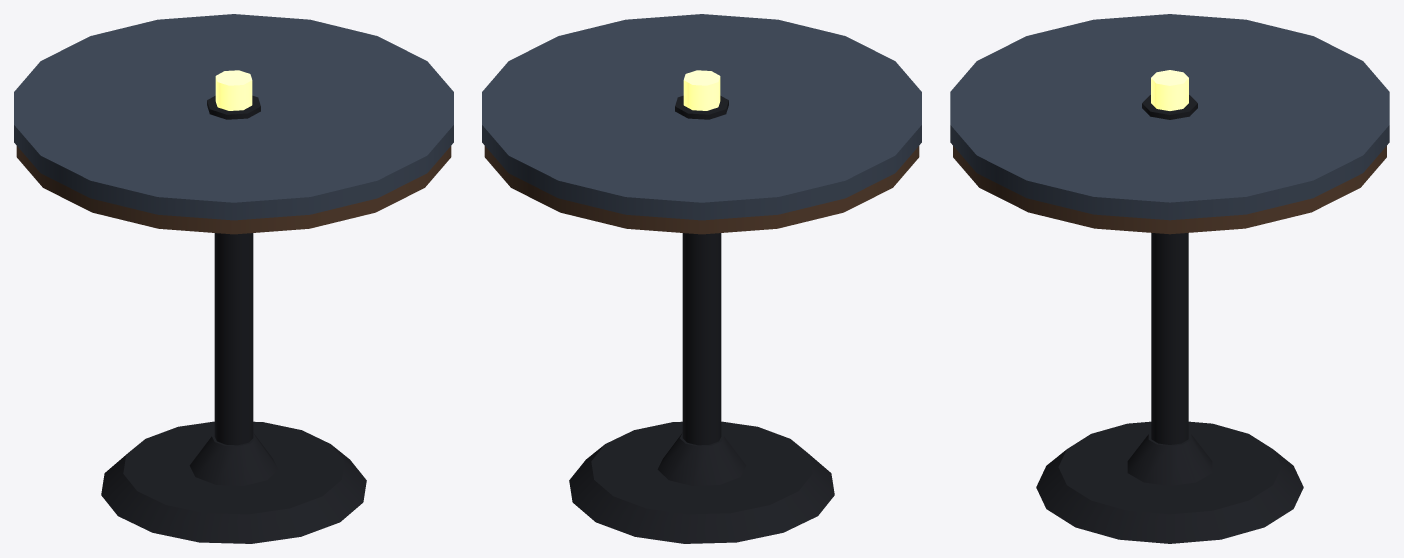
File: cafe_table.glb
The picture shows the model from 3 angles, left to right: view 1: azimuth 30°, elevation 25°; view 2: azimuth 150°, elevation 25°; view 3: azimuth 270°, elevation 25°; orthographic projection.
Parts seen in each view (by area): view 1: body, lights; view 2: body, lights; view 3: body, lights.
Part boxes in pixels (x1=…): body: x1=14, y1=14, x2=453, y2=543; lights: x1=207, y1=70, x2=260, y2=119; body: x1=482, y1=14, x2=921, y2=543; lights: x1=675, y1=70, x2=728, y2=119; body: x1=950, y1=14, x2=1389, y2=543; lights: x1=1142, y1=70, x2=1197, y2=119.
Size of the model in its own units: 0.8 by 0.81 by 0.7878.
